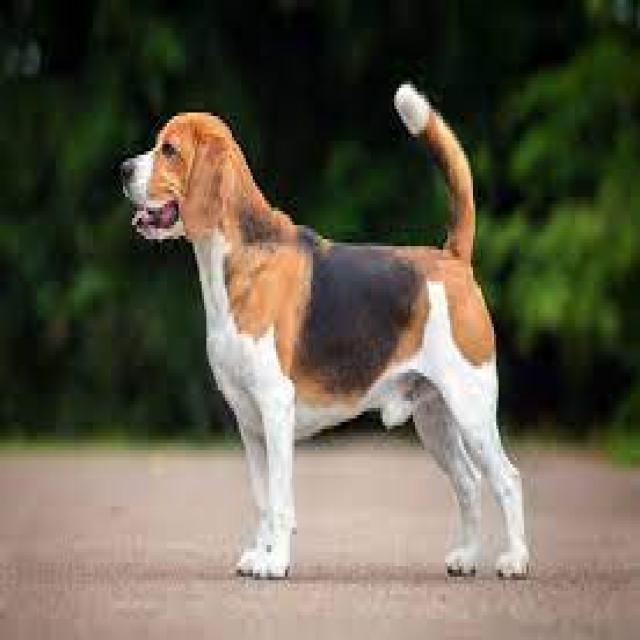Dog: (119, 78, 531, 586)
